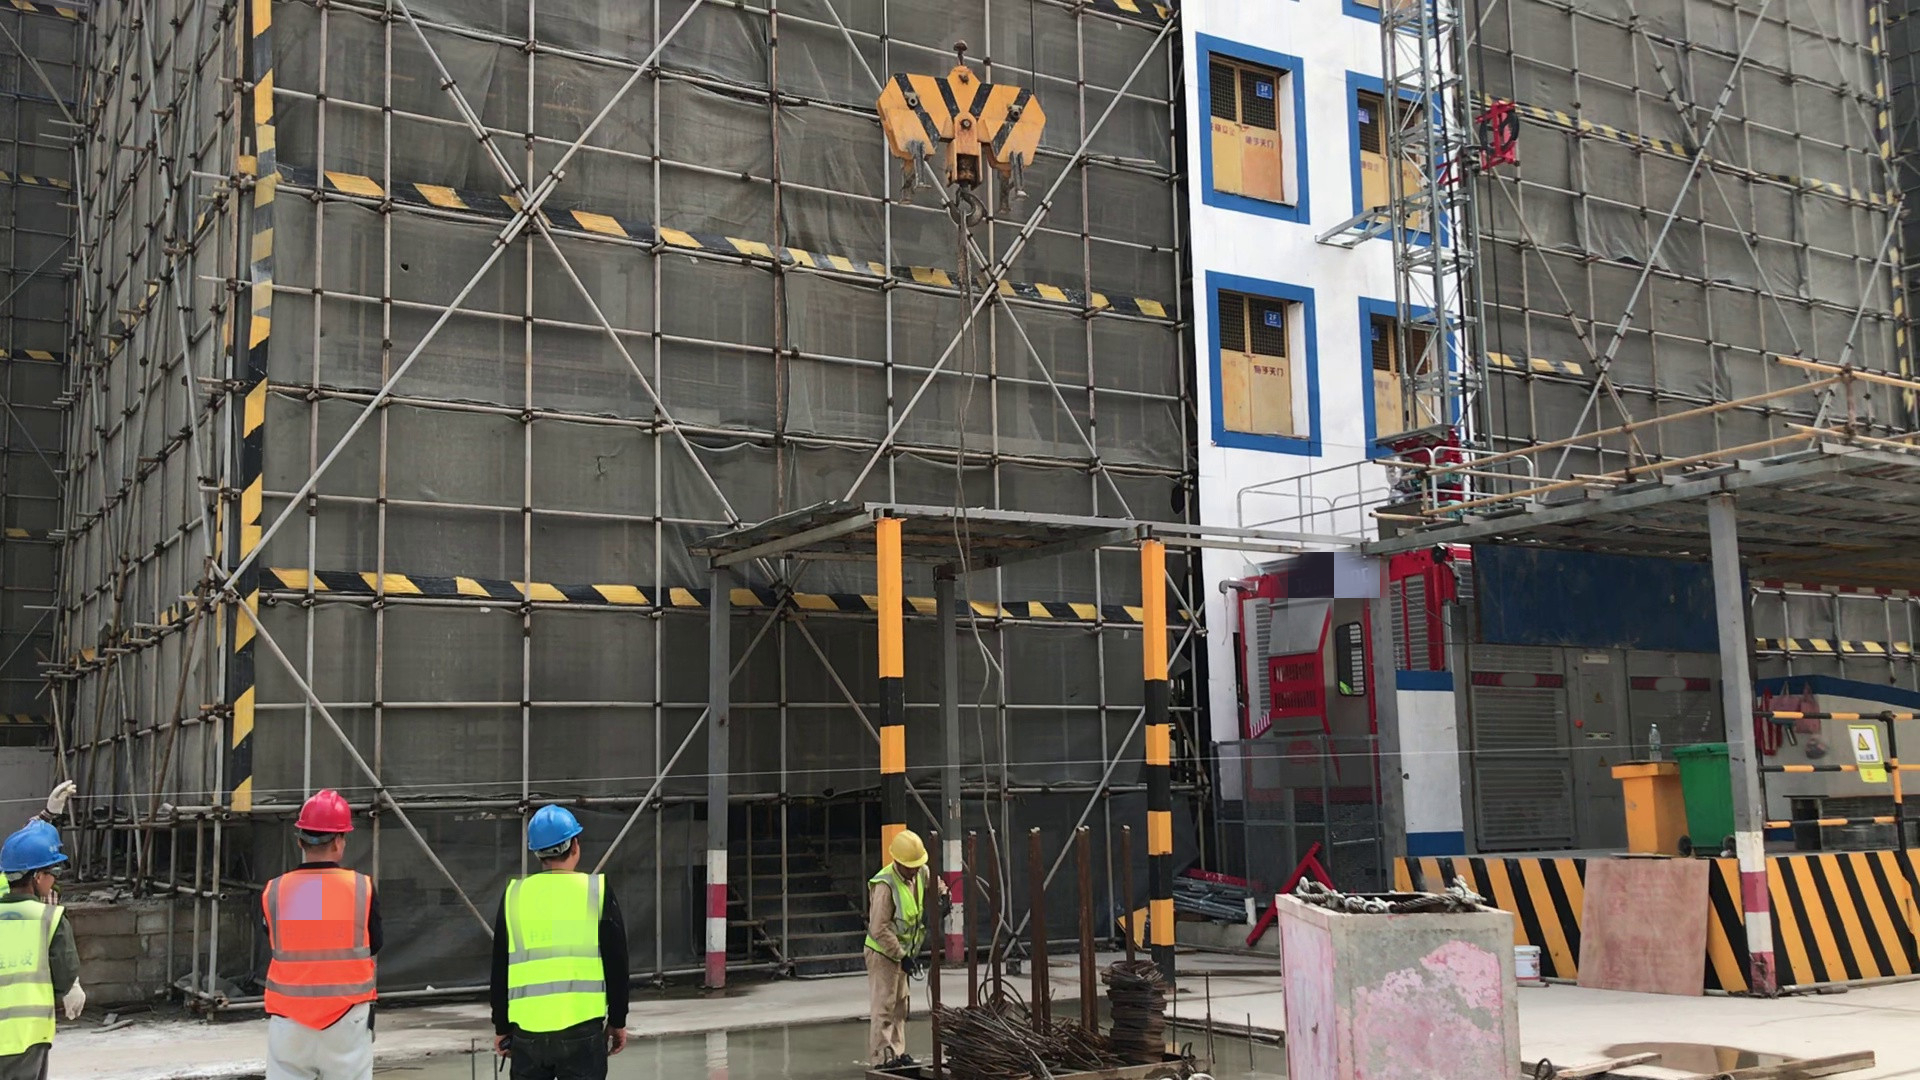ebox: (1612, 753, 1688, 850)
helmet: (2, 829, 69, 870), (295, 789, 354, 835), (526, 807, 584, 852), (890, 830, 928, 868)
hook: (873, 41, 1047, 227)
person: (494, 804, 632, 1080), (255, 791, 380, 1080), (2, 826, 84, 1080), (861, 829, 931, 1077)
slogan: (1848, 719, 1890, 788)
vest: (262, 870, 378, 1019), (504, 870, 606, 1030), (1, 901, 62, 1049), (874, 872, 921, 965)
